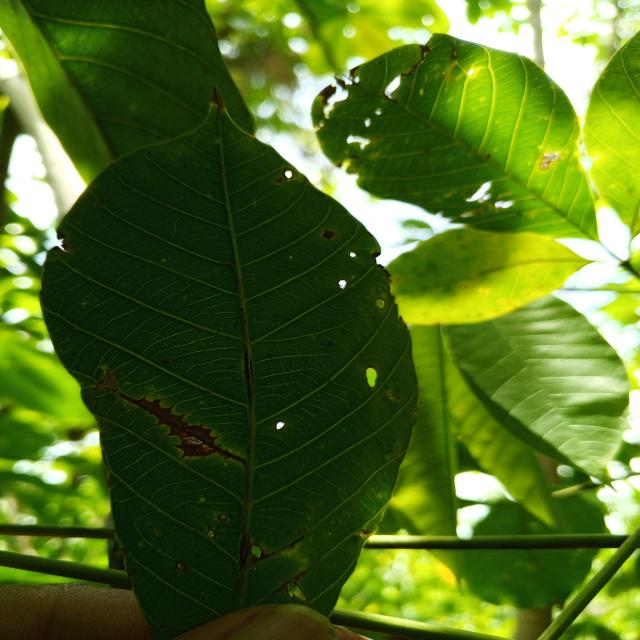Colletotrichum: (218, 514, 228, 523), (206, 530, 215, 537), (177, 562, 185, 568)
Corynespora: (122, 394, 249, 466), (256, 536, 304, 562), (272, 570, 308, 594)
